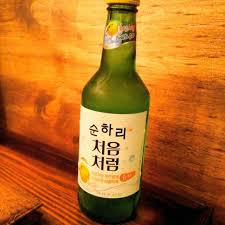soju: (76, 1, 152, 222)
